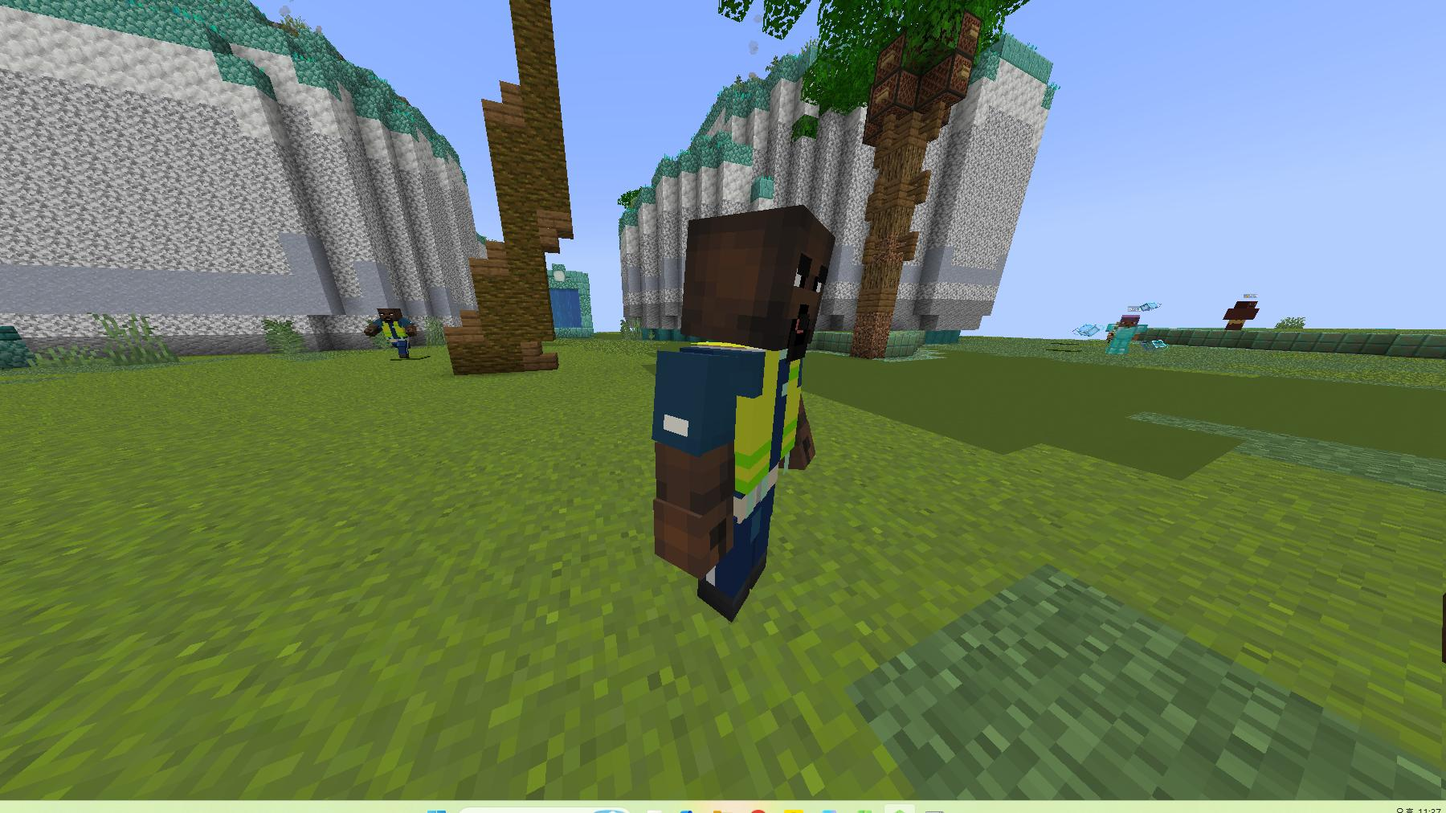Guardian: (652, 206, 834, 621), (366, 308, 417, 359)
